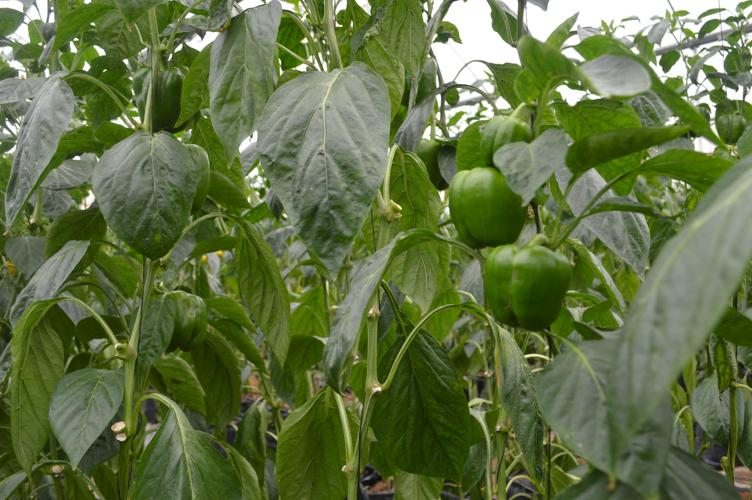BellPepper: (481, 244, 574, 334), (451, 168, 529, 246), (131, 69, 189, 134), (156, 288, 210, 347), (476, 115, 538, 158)
